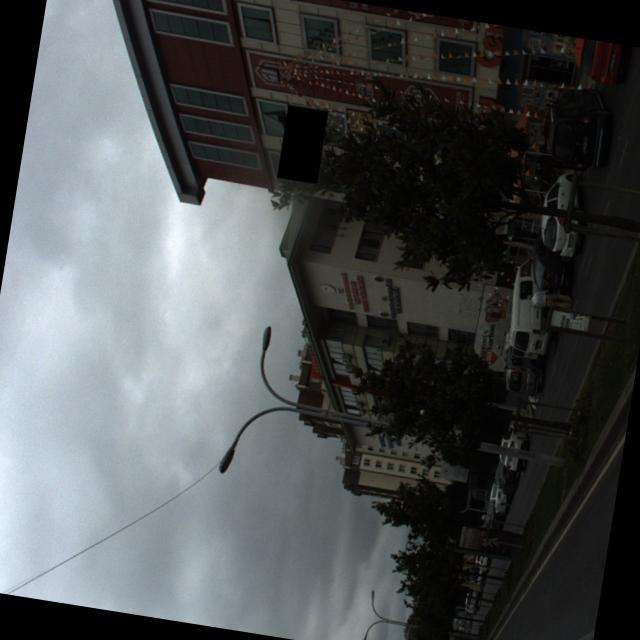SignStore: (289, 104, 323, 180)
